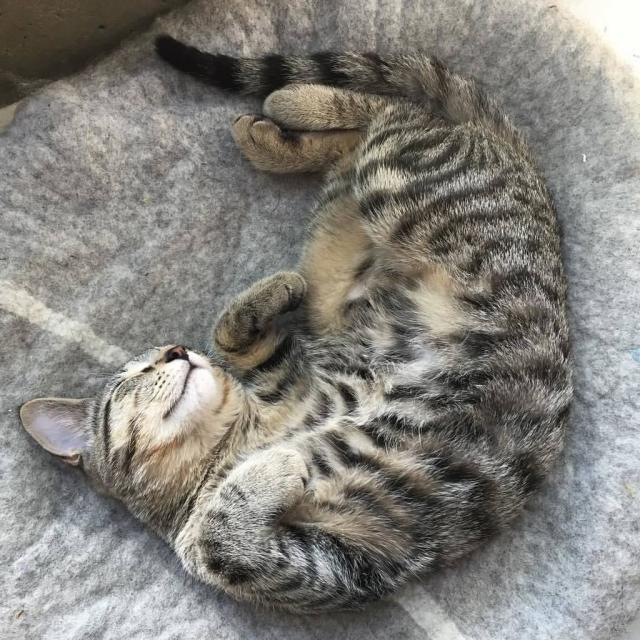Cat: (5, 30, 576, 622)
